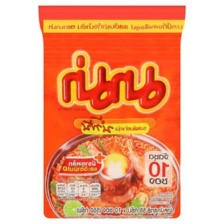snack: (31, 0, 193, 224)
